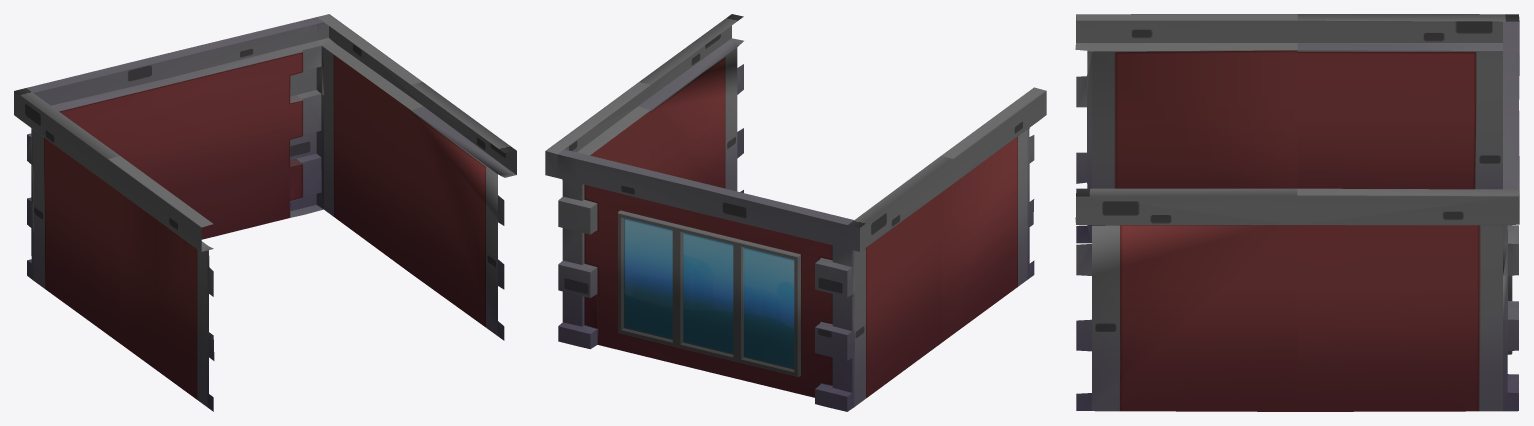
Rendered from houseupperfull.fbx.
The picture shows the model from 3 angles, left to right: view 1: azimuth 30°, elevation 25°; view 2: azimuth 150°, elevation 25°; view 3: azimuth 270°, elevation 25°; orthographic projection. The views are drawn at different scales.
Parts seen in each view (by area): view 1: HouseWall; view 2: HouseWall; view 3: HouseWall.
Boxes of the visible parts, x1=… form: HouseWall: x1=14, y1=14, x2=516, y2=411; HouseWall: x1=545, y1=14, x2=1046, y2=411; HouseWall: x1=1075, y1=14, x2=1519, y2=411.
Size of the model in its own units: 131 by 75.1 by 135.
Materials: 1 (1 with a texture image).
